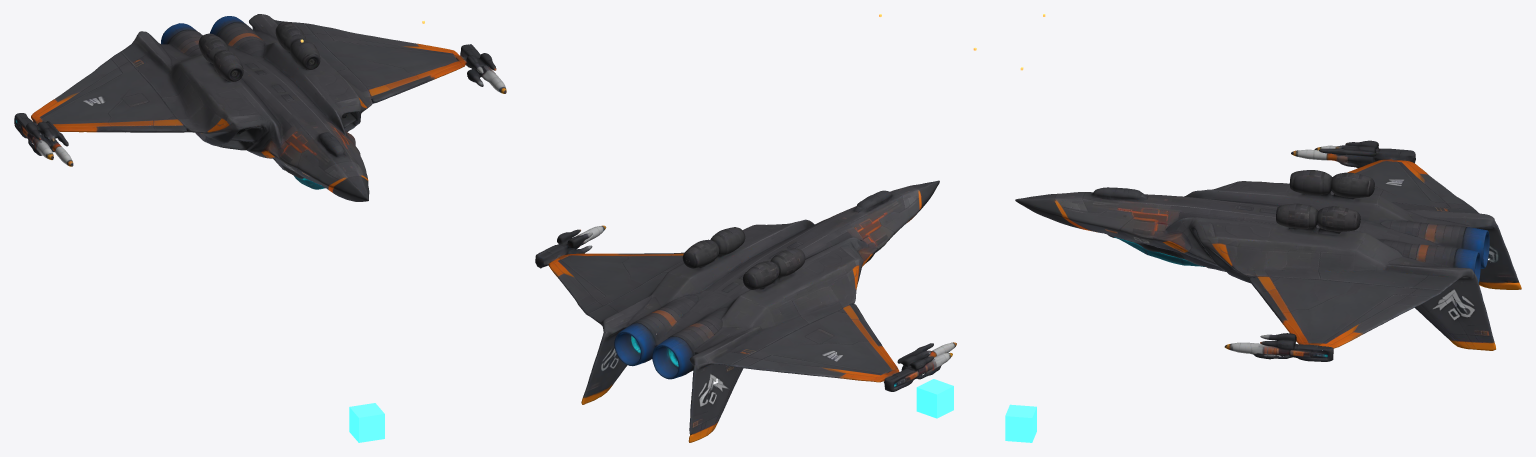
The model's file is enemy_hero_jet_blender_ready.glb.
The picture shows the model from 3 angles, left to right: view 1: azimuth 30°, elevation 25°; view 2: azimuth 150°, elevation 25°; view 3: azimuth 270°, elevation 25°; orthographic projection. The views are drawn at different scales.
Parts seen in each view (by area): view 1: tripo_node_3194b363, EnginePulse_Core; view 2: tripo_node_3194b363, EnginePulse_Core; view 3: tripo_node_3194b363, EnginePulse_Core.
Boxes of the visible parts, x1=… form: tripo_node_3194b363: x1=14, y1=14, x2=506, y2=201; EnginePulse_Core: x1=349, y1=403, x2=384, y2=442; tripo_node_3194b363: x1=535, y1=180, x2=956, y2=442; EnginePulse_Core: x1=916, y1=379, x2=953, y2=418; tripo_node_3194b363: x1=1015, y1=140, x2=1521, y2=361; EnginePulse_Core: x1=1005, y1=404, x2=1036, y2=442.
Size of the model in its own units: 3.22 by 2.87 by 3.39.
Materials: 4 (1 with a texture image).
